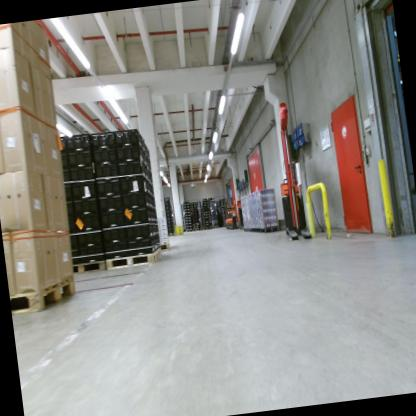pallet: (8, 269, 80, 321), (103, 246, 158, 273), (70, 257, 107, 276), (157, 241, 172, 253), (156, 243, 164, 261), (222, 222, 230, 229), (192, 226, 200, 232), (185, 227, 193, 233), (206, 225, 213, 230), (200, 226, 207, 231), (213, 224, 219, 229)
pallet_truck: (273, 155, 317, 246), (227, 204, 239, 231), (224, 207, 234, 229)
